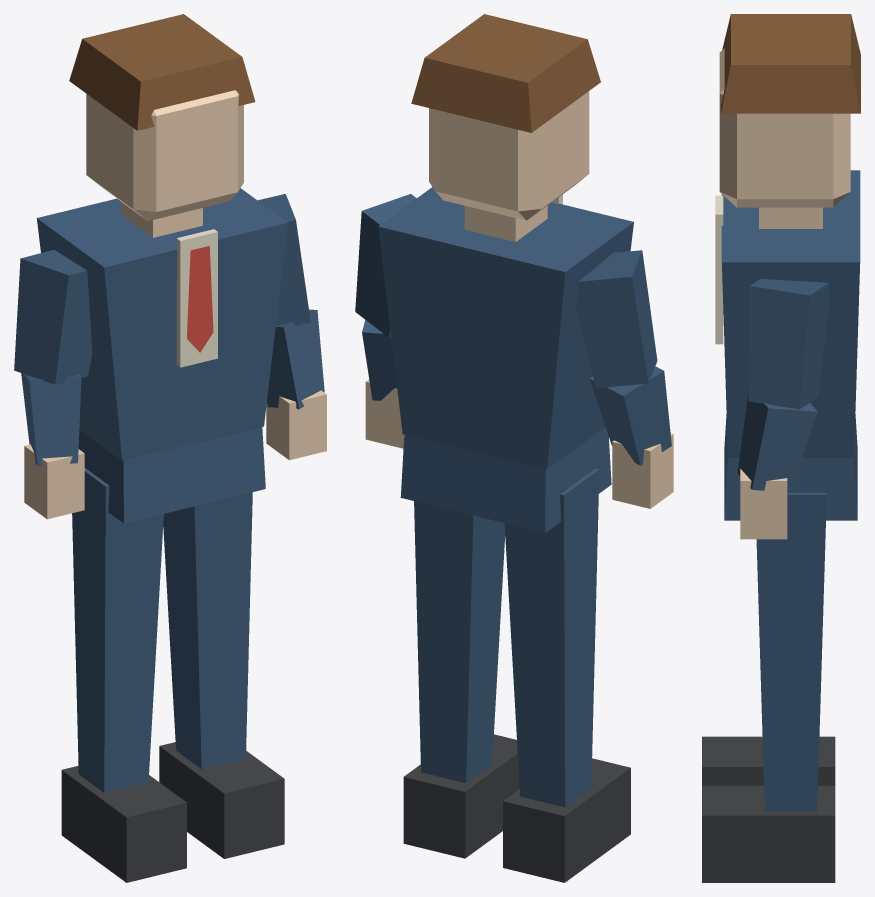
File: Citizen_Male_04_Navy_Suit.fbx
3 views of the same model, side by side, from view 1: azimuth 30°, elevation 25°; view 2: azimuth 150°, elevation 25°; view 3: azimuth 270°, elevation 25° (orthographic). The views are drawn at different scales.
Visible parts, largest first — view 1: Citizen_Male_04_Navy_Suit_Mesh; view 2: Citizen_Male_04_Navy_Suit_Mesh; view 3: Citizen_Male_04_Navy_Suit_Mesh.
Part boxes in pixels (left/top/right/bottom): Citizen_Male_04_Navy_Suit_Mesh: left=14, top=14, right=326, bottom=882; Citizen_Male_04_Navy_Suit_Mesh: left=355, top=14, right=673, bottom=882; Citizen_Male_04_Navy_Suit_Mesh: left=702, top=14, right=860, bottom=882.
Bounding box in the file's own units: 72.33 × 188 × 33.67.
